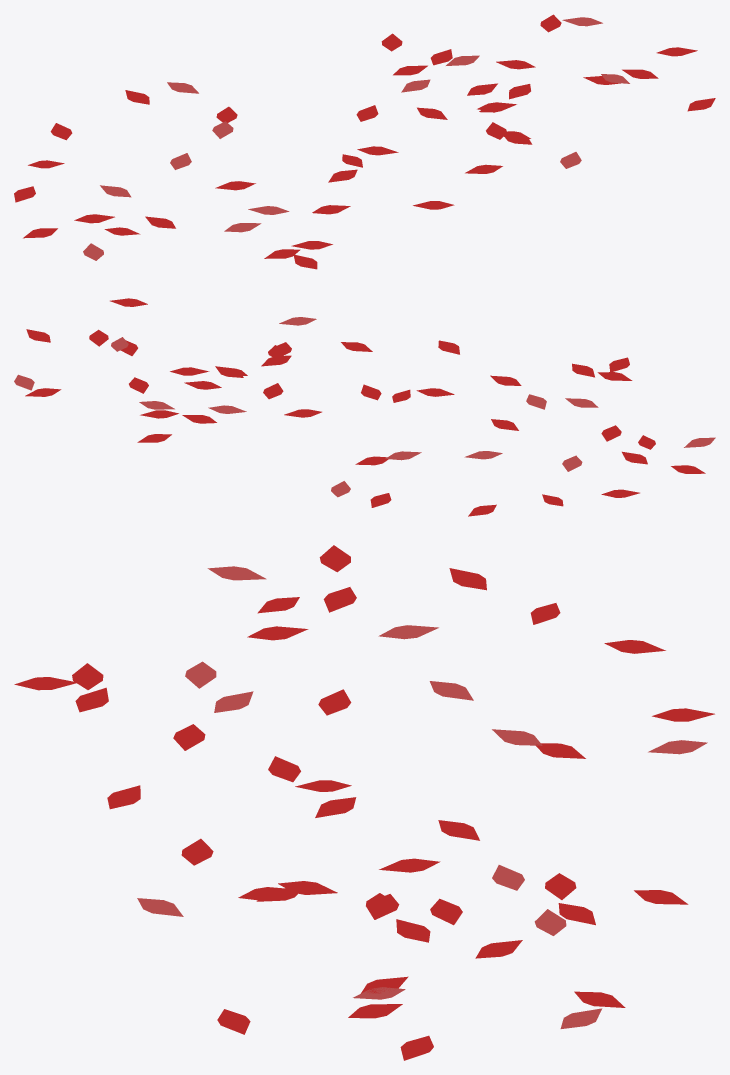
Rendered from Flowers on ground.fbx.
3 views of the same model, one above another, from view 1: azimuth 30°, elevation 25°; view 2: azimuth 150°, elevation 25°; view 3: azimuth 270°, elevation 25° (orthographic). The views are drawn at different scales.
Visible parts, largest first — view 1: Flowers on ground; view 2: Flowers on ground; view 3: Flowers on ground.
Part boxes in pixels (bbox=[...]): Flowers on ground: bbox=[14, 14, 715, 269]; Flowers on ground: bbox=[14, 298, 715, 516]; Flowers on ground: bbox=[14, 545, 714, 1060].
Bounding box in the file's own units: 273 × 1.78e-06 × 157.
